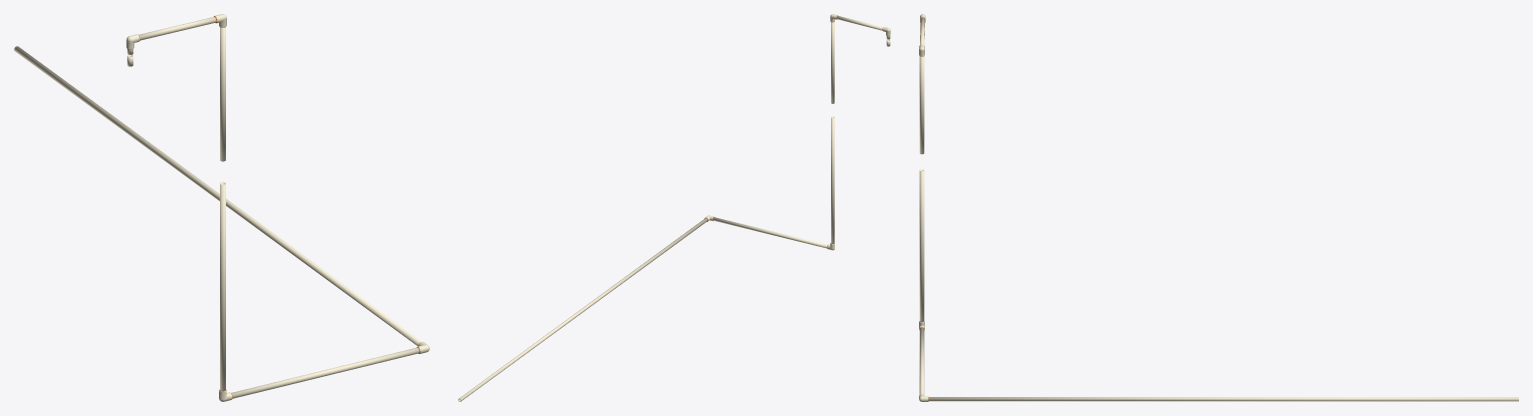
Rendered from pipes_supply__water_heater__9189080e.glb.
The picture shows the model from 3 angles, left to right: view 1: azimuth 30°, elevation 25°; view 2: azimuth 150°, elevation 25°; view 3: azimuth 270°, elevation 25°; orthographic projection. The views are drawn at different scales.
Visible parts, largest first — view 1: pipe_supply_cold_riser; view 2: pipe_supply_cold_riser; view 3: pipe_supply_cold_riser.
Part boxes in pixels (left/top/right/bottom): pipe_supply_cold_riser: left=14, top=17, right=421, bottom=398; pipe_supply_cold_riser: left=458, top=16, right=890, bottom=401; pipe_supply_cold_riser: left=919, top=17, right=1518, bottom=401.
Size of the model in its own units: 1.27 by 1.56 by 3.
